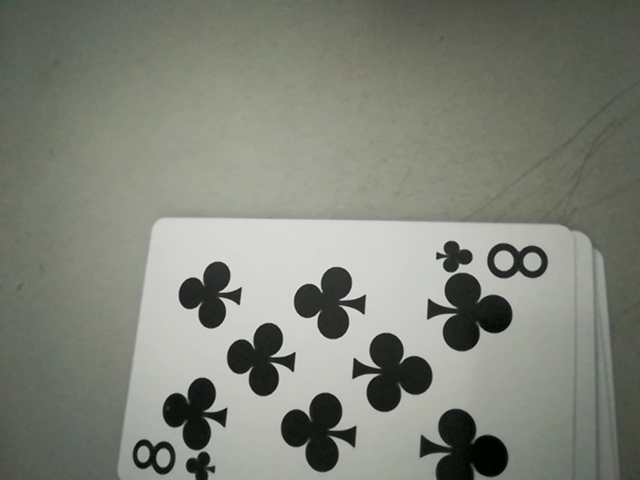mh 8: (434, 235, 554, 283), (126, 436, 209, 480)
